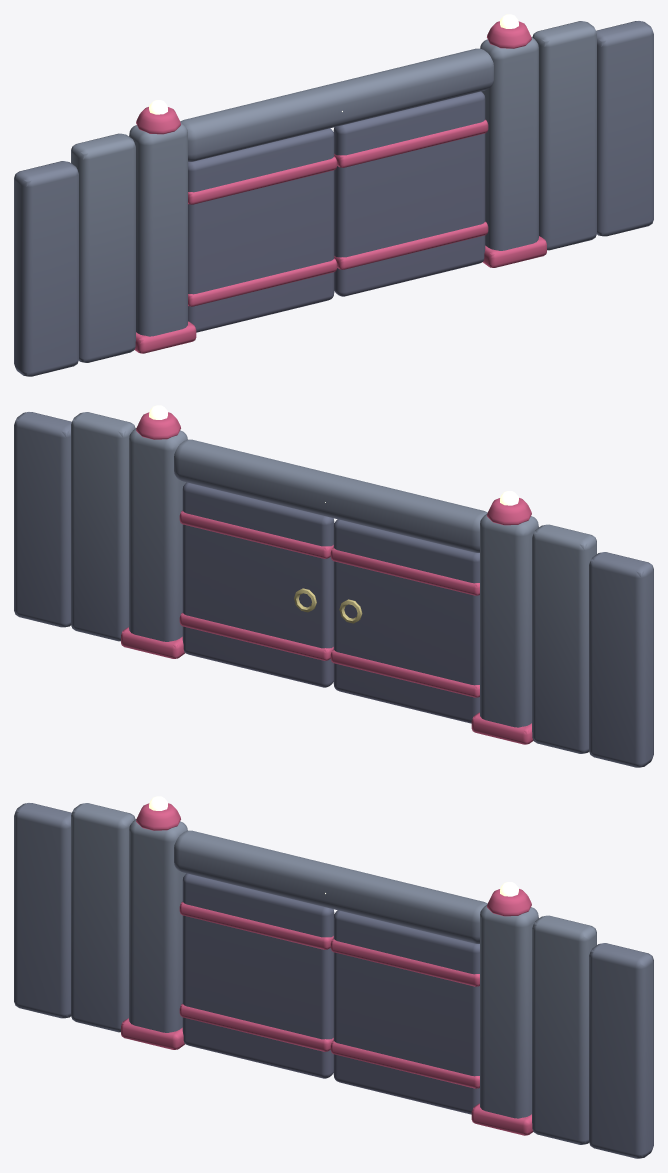
File: gate4.glb
3 renders of one model, top to bottom at view 1: azimuth 30°, elevation 25°; view 2: azimuth 150°, elevation 25°; view 3: azimuth 330°, elevation 25°, orthographic.
Parts seen in each view (by area): view 1: Body; view 2: Body; view 3: Body.
Boxes of the visible parts, x1,y1,x2,y2 form: Body: (14,21,653,376); Body: (14,412,653,767); Body: (14,803,653,1158).
Size of the model in its own units: 38.9 by 14.2 by 2.31.
